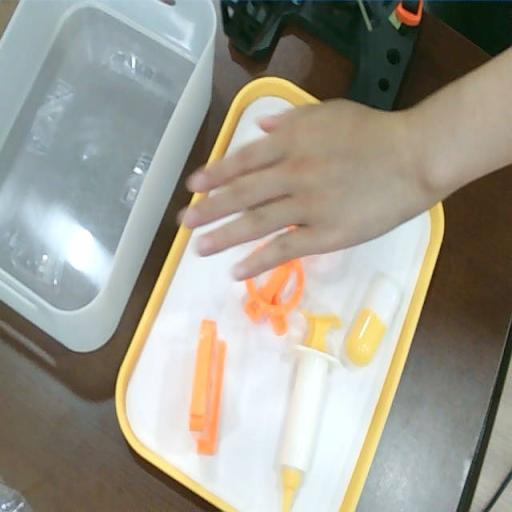hospital: (184, 96, 442, 277)
